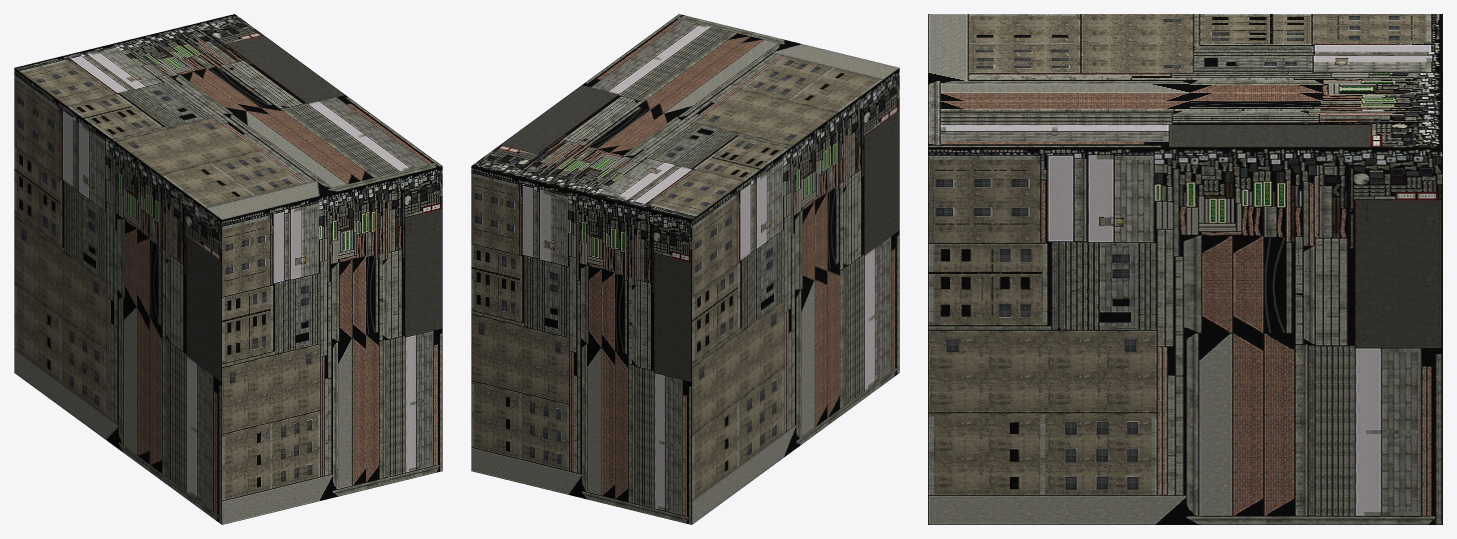
File: Interiors_002.DAE
The picture shows the model from 3 angles, left to right: view 1: azimuth 30°, elevation 25°; view 2: azimuth 150°, elevation 25°; view 3: azimuth 270°, elevation 25°; orthographic projection. The views are drawn at different scales.
Visible parts, largest first — view 1: bounds; view 2: bounds; view 3: bounds.
Boxes of the visible parts, box(x1,y1,x2,y2) form: bounds: box(14, 14, 442, 524); bounds: box(471, 14, 899, 524); bounds: box(928, 14, 1442, 524).
Size of the model in its own units: 1325 by 2162 by 1750.
